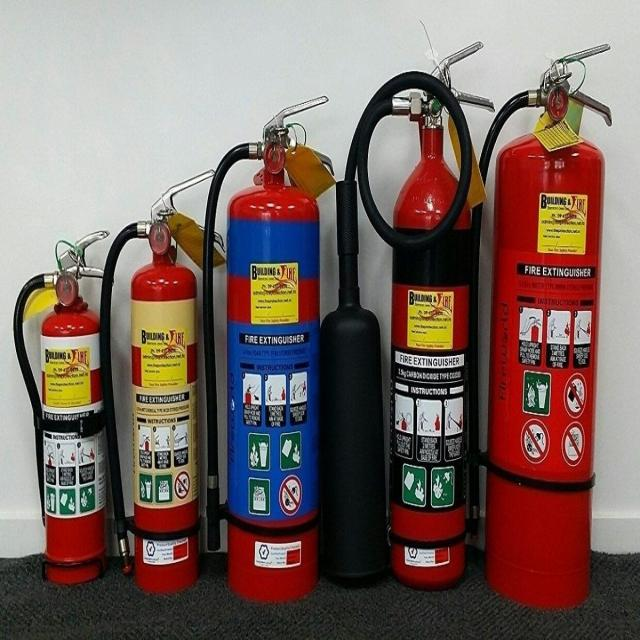fire_extinguisher: (310, 31, 502, 600), (459, 38, 617, 614), (193, 85, 341, 610), (93, 163, 231, 598), (9, 223, 120, 594)
